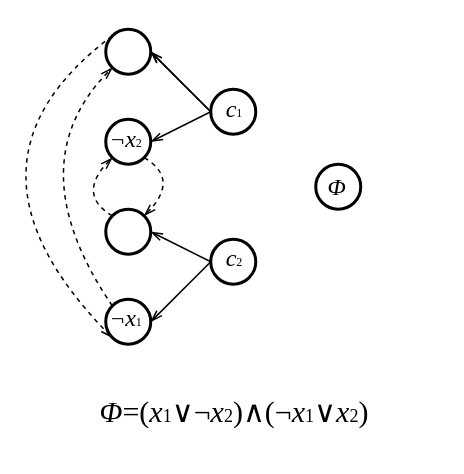
This 464x474 diagram has some shape labels left out. Here are the shapes that lost their labels. From the top down, the box of each, then its label:
(104, 27, 152, 75): x 1
(104, 207, 152, 255): x 2
